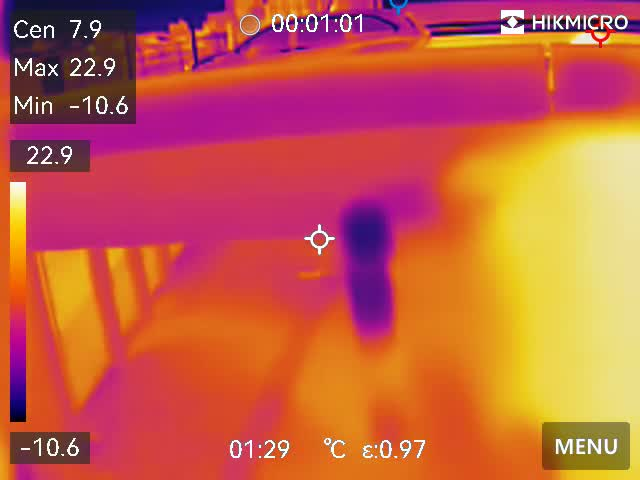largeCar: (186, 5, 446, 55)
